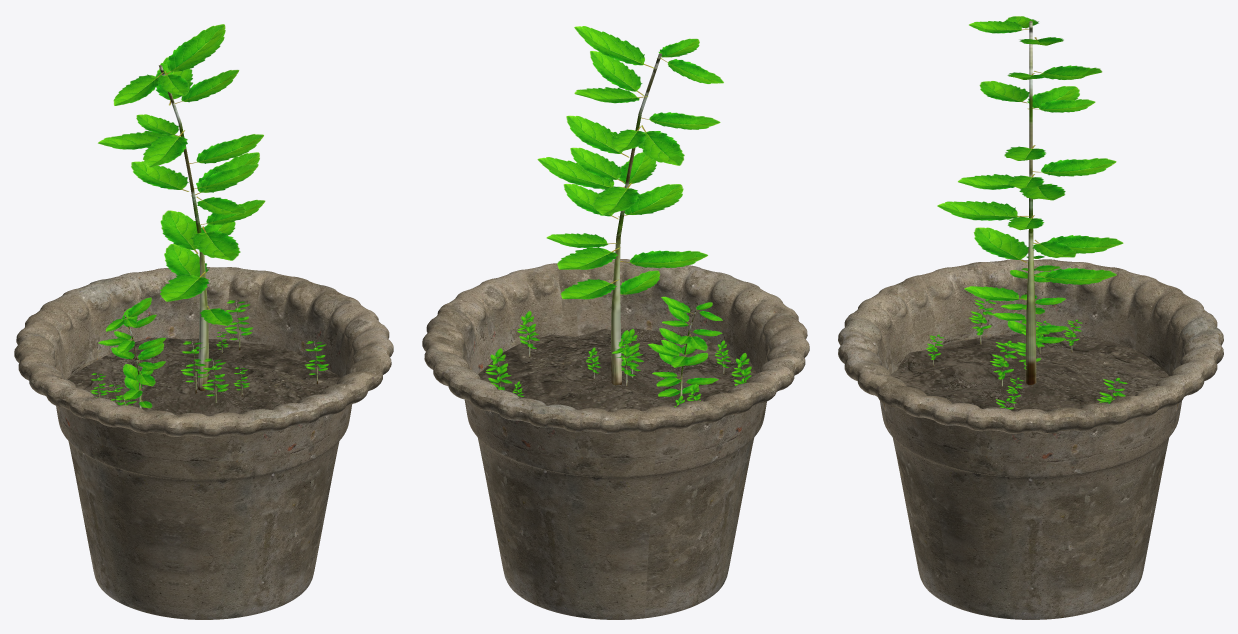
The model's file is tulsi_tree_on_a_cement_tub.compressed.glb.
3 renders of one model, left to right at view 1: azimuth 30°, elevation 25°; view 2: azimuth 150°, elevation 25°; view 3: azimuth 270°, elevation 25°, orthographic. The views are drawn at different scales.
Parts seen in each view (by area): view 1: Object_4, Object_9, Object_6, Object_12, Object_8; view 2: Object_4, Object_9, Object_6, Object_12, Object_8; view 3: Object_4, Object_6, Object_9, Object_12, Object_8.
Boxes of the visible parts, x1=… form: Object_4: x1=14, y1=267, x2=393, y2=619; Object_9: x1=98, y1=24, x2=265, y2=325; Object_6: x1=68, y1=337, x2=340, y2=415; Object_12: x1=90, y1=297, x2=328, y2=408; Object_8: x1=158, y1=65, x2=208, y2=390; Object_4: x1=422, y1=259, x2=809, y2=619; Object_9: x1=537, y1=26, x2=723, y2=299; Object_6: x1=478, y1=328, x2=756, y2=411; Object_12: x1=485, y1=296, x2=751, y2=407; Object_8: x1=611, y1=53, x2=661, y2=385; Object_4: x1=838, y1=259, x2=1223, y2=619; Object_6: x1=891, y1=329, x2=1169, y2=411; Object_9: x1=937, y1=16, x2=1123, y2=300; Object_12: x1=926, y1=250, x2=1127, y2=409; Object_8: x1=1025, y1=21, x2=1036, y2=384.
Bounding box in the file's own units: 0.9649 × 1.51 × 0.9649.
Materials: 4 (4 with a texture image).
